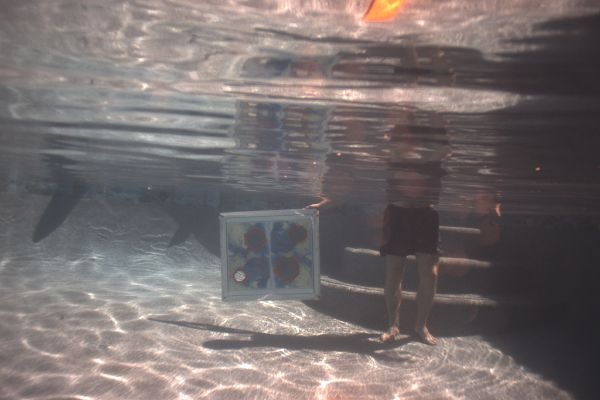torpille: (219, 209, 321, 301)
torpille_target: (276, 258, 298, 280), (245, 228, 265, 248), (288, 225, 306, 243), (233, 269, 247, 283)
